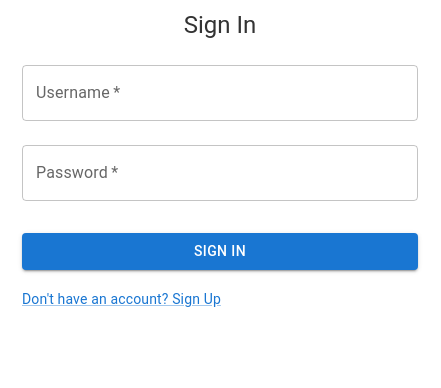
it: LoginPage Integration Test › should display an error if username or password is not provided
This screenshot has width=441, height=388.
# Only fill username
In the field labelled "Username *": (220, 93) [22,65,418,121], type "testuser"
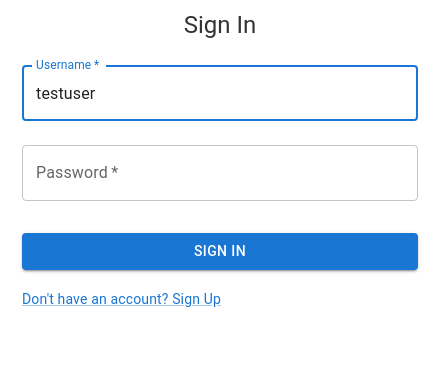
Click the button "Sign In": (220, 251) [22,233,418,270]
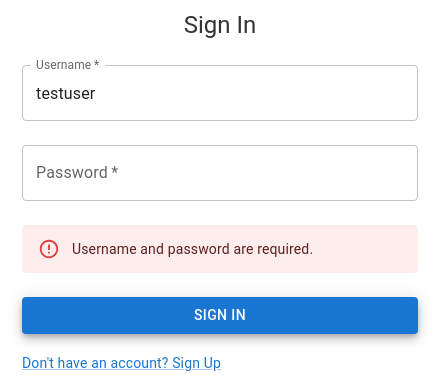
Expected: the text "Username and password are required." is shown, [72,241,313,257]
